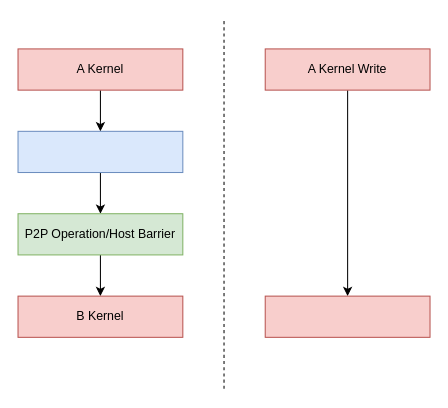
Some shapes in this 448 by 408 pixel diagram are drawn without their labels. Each missing label, with the box of its shape:
B kernel wait data & calculate: (264, 295, 430, 337)
P2P Operation: (17, 130, 183, 173)
